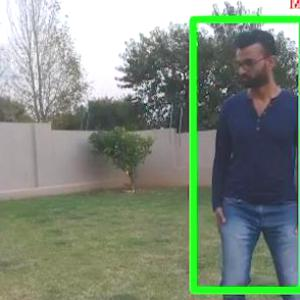follow: (198, 11, 300, 299)
